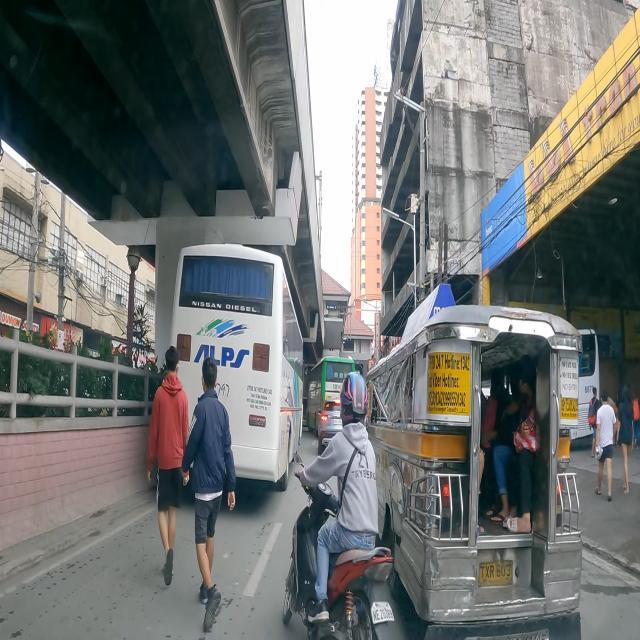bus: (170, 245, 304, 492), (307, 356, 356, 438), (571, 327, 600, 443)
car: (318, 395, 342, 458)
jeepney: (365, 284, 583, 640)
motorcycle: (282, 372, 394, 640)
